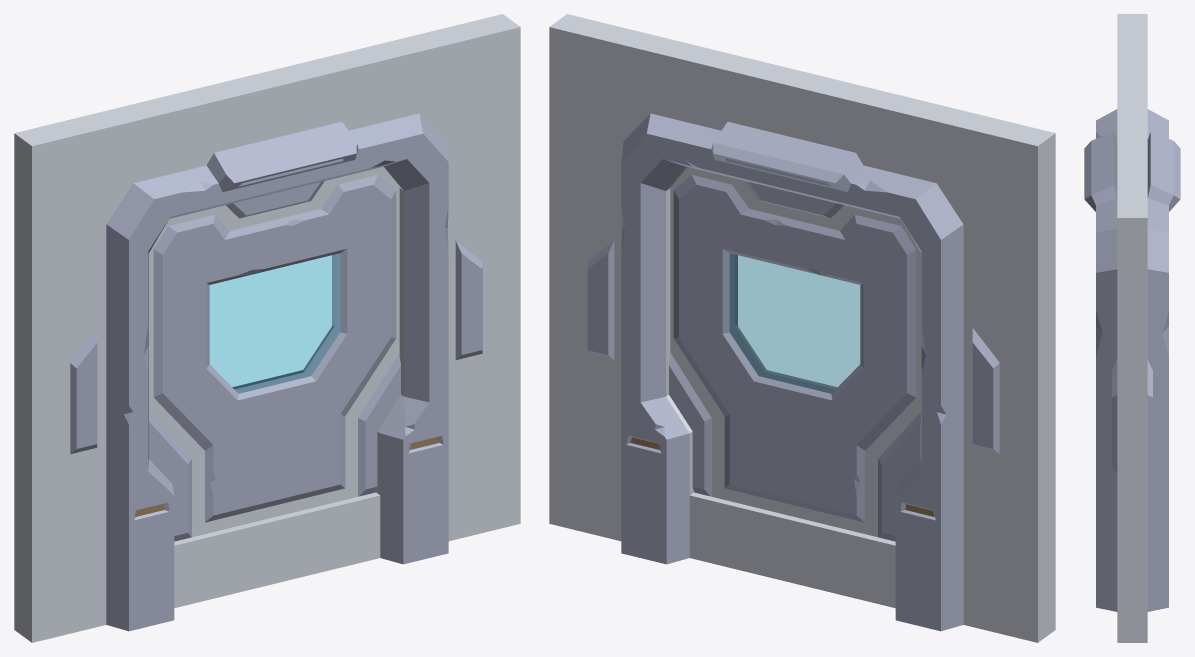
The model's file is ExitDoor 1.FBX.
3 renders of one model, left to right at view 1: azimuth 30°, elevation 25°; view 2: azimuth 150°, elevation 25°; view 3: azimuth 270°, elevation 25°, orthographic. The views are drawn at different scales.
Parts seen in each view (by area): view 1: ExitDoorFrame, ExitDoor, Glass; view 2: ExitDoorFrame, ExitDoor, Glass; view 3: ExitDoorFrame.
Part boxes in pixels (box(x1,y1,x2,y2)): ExitDoorFrame: box(14, 14, 520, 642); ExitDoor: box(149, 167, 400, 541); Glass: box(210, 253, 339, 393); ExitDoorFrame: box(549, 14, 1055, 642); ExitDoor: box(669, 167, 920, 541); Glass: box(730, 253, 859, 393); ExitDoorFrame: box(1084, 14, 1180, 642).
Size of the model in its own units: 35.97 by 34.94 by 7.16.
2 materials, 1 textured.
